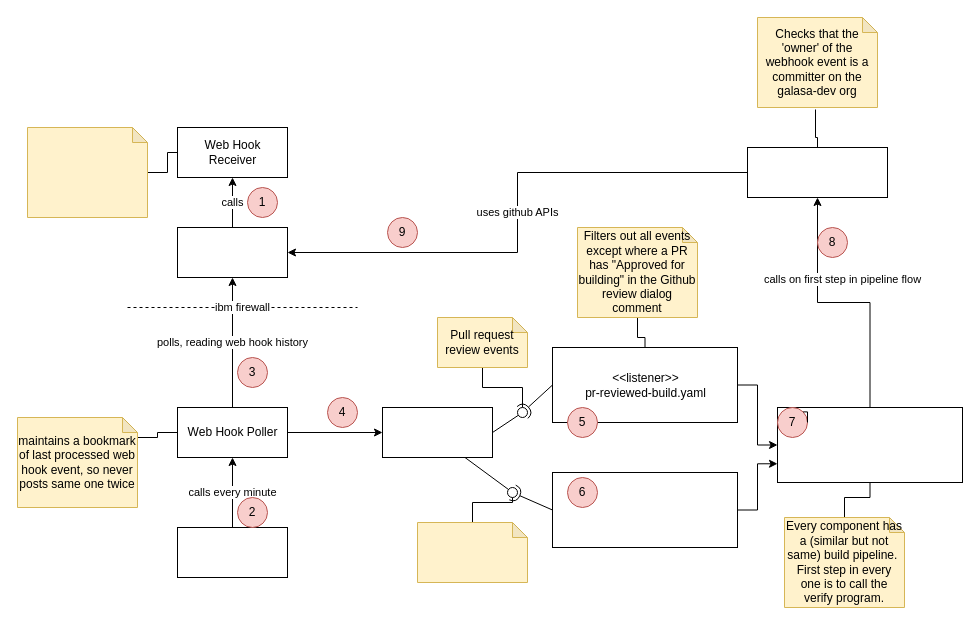
Image size: 980x625. Some labels were removed from this diagram. The box of each missing label's shape, as (x1, y1, x2, y2) in pixels:
<<component pipeline>> component-X-pr pipeline: (776, 406, 962, 482)
<<listener>> pr-builds.yaml: (552, 472, 738, 548)
Does nothing with web hook event, just returns HTTP 200 (OK): (26, 126, 148, 218)
Github: (176, 226, 288, 278)
Kube Cron Job: (176, 526, 288, 578)
Pull request open, re-open, synchronise events: (416, 522, 528, 582)
Tekton: (382, 406, 492, 458)
Verify Program: (746, 146, 888, 198)
